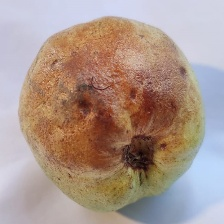guava: (22, 40, 223, 219)
